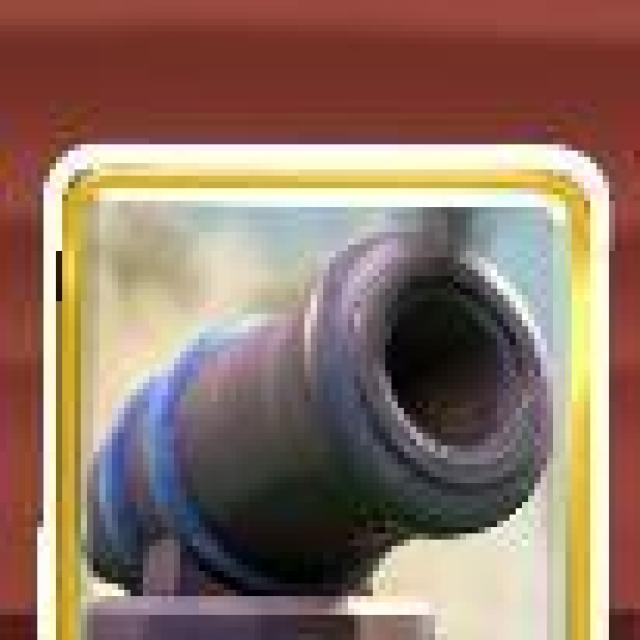Cannon: (44, 142, 608, 640)
